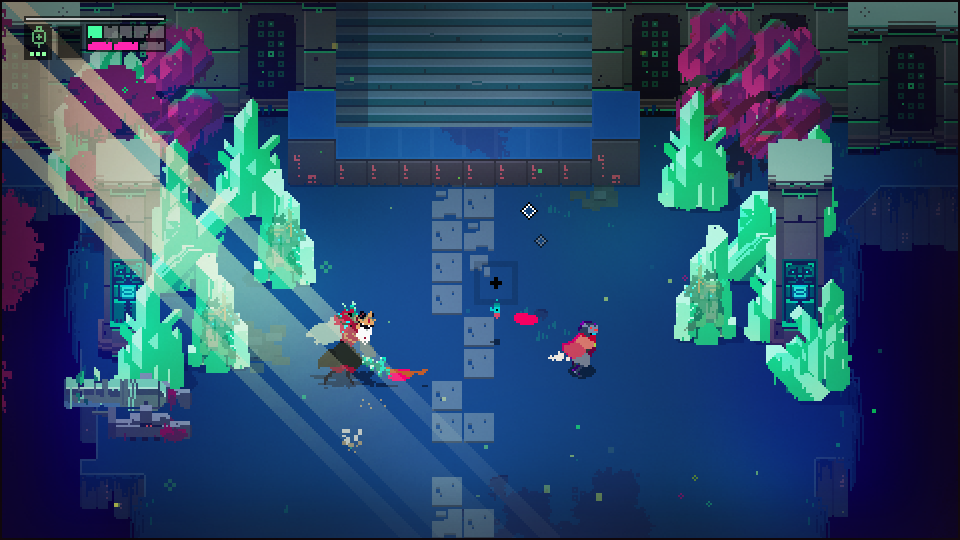hanged_man: (313, 304, 427, 393)
player: (567, 323, 602, 374)
